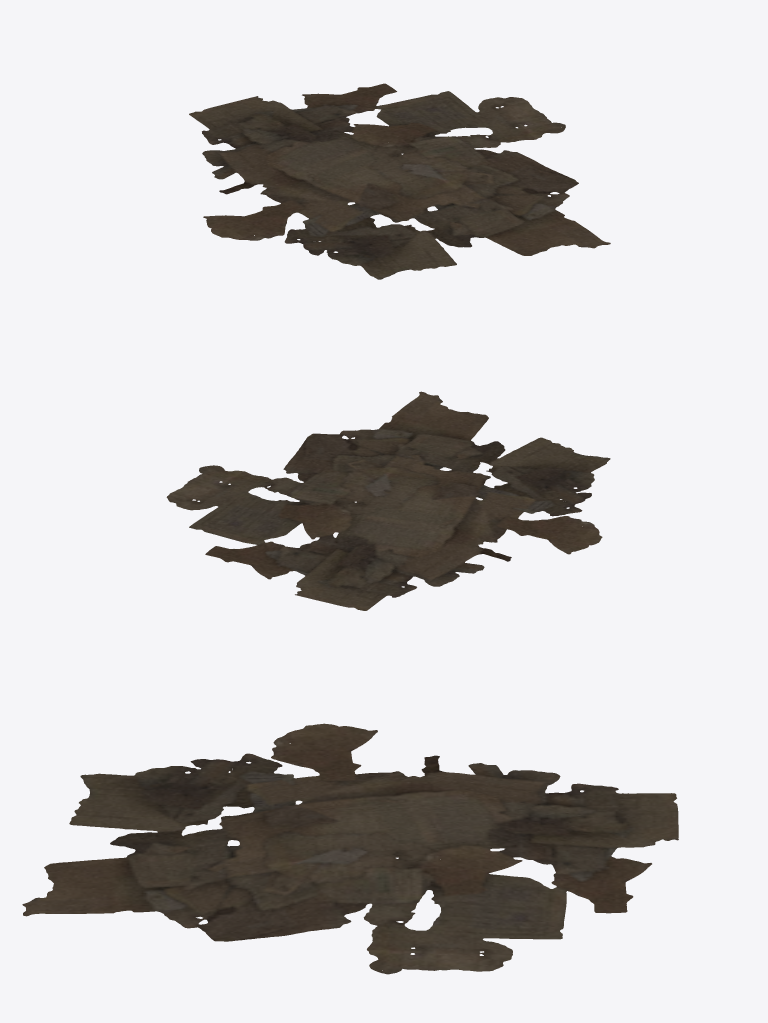
Rendered from trash_6.dae.
The picture shows the model from 3 angles, top to bottom: view 1: azimuth 30°, elevation 25°; view 2: azimuth 150°, elevation 25°; view 3: azimuth 270°, elevation 25°; orthographic projection. The views are drawn at different scales.
Parts seen in each view (by area): view 1: trash_6; view 2: trash_6; view 3: trash_6.
Part boxes in pixels (box(x1,y1,x2,y2)): trash_6: box(189, 83, 610, 279); trash_6: box(166, 391, 610, 610); trash_6: box(22, 723, 678, 974).
Size of the model in its own units: 1 by 1 by 0.0147.
Materials: 1 (1 with a texture image).
